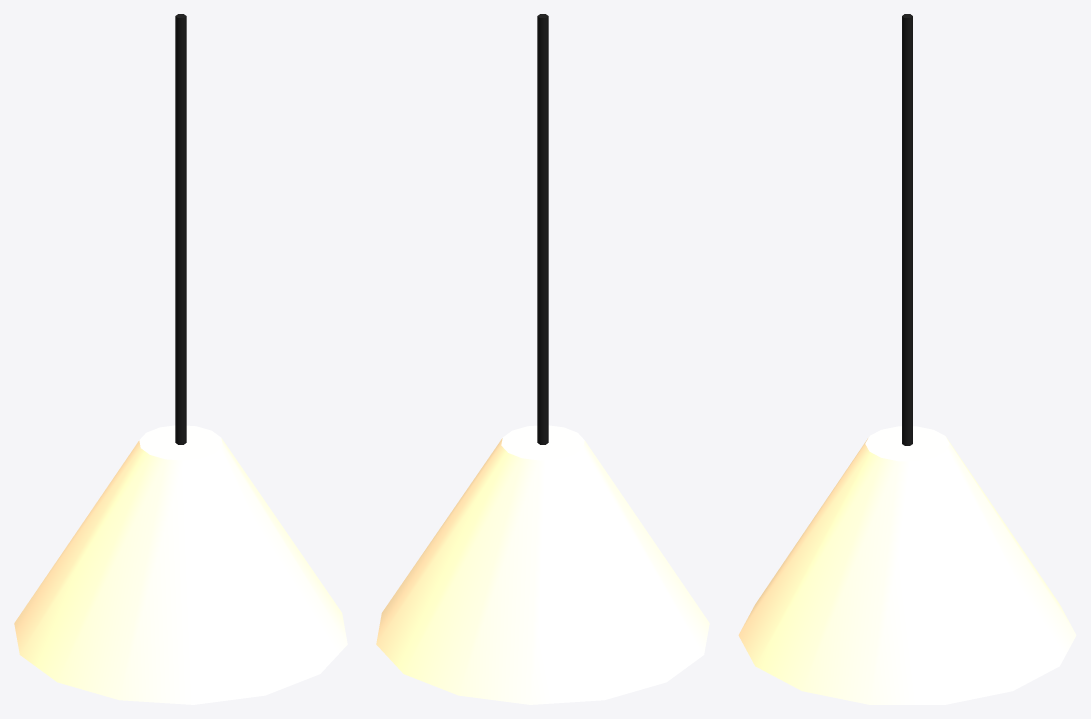
The model's file is pendant.glb.
The picture shows the model from 3 angles, left to right: view 1: azimuth 30°, elevation 25°; view 2: azimuth 150°, elevation 25°; view 3: azimuth 270°, elevation 25°; orthographic projection.
Parts seen in each view (by area): view 1: pendant; view 2: pendant; view 3: pendant.
Part boxes in pixels (<box>): pendant: <box>14,14,347,704</box>; pendant: <box>376,14,709,704</box>; pendant: <box>738,14,1076,704</box>.
Size of the model in its own units: 0.468 by 0.97 by 0.48.
